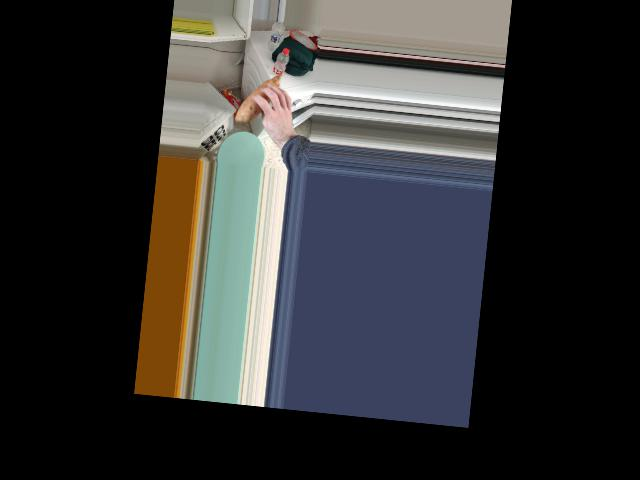sweet_potato: (237, 73, 291, 120)
